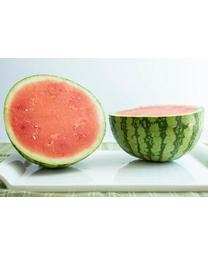watermelon: (4, 74, 107, 168), (110, 102, 206, 162)
